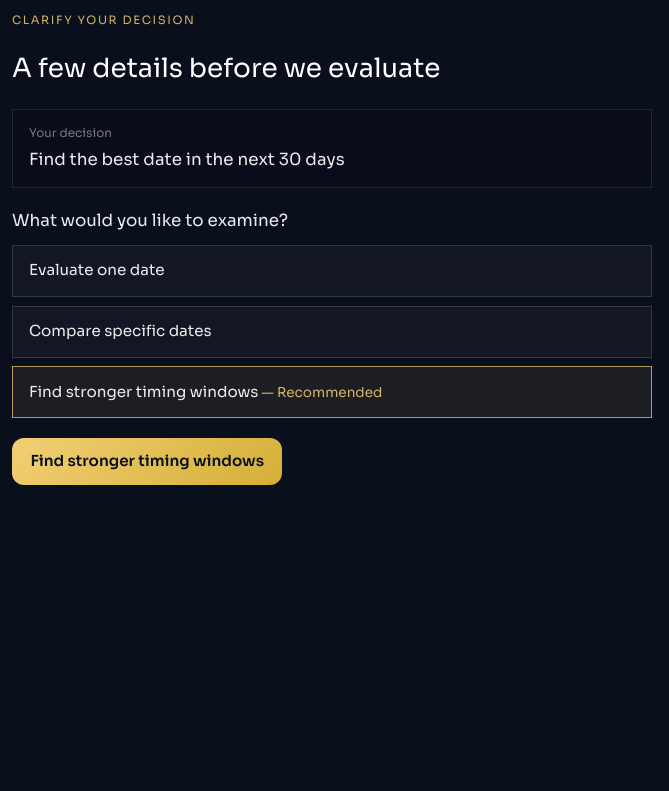
Test case: AskClarificationFlow explicit operation selector › switching operations clears incompatible fields
Expected: the element with test id "ask-ready-find" is shown, [12,438,282,485]
Click the button with test id "examine-compare" at coordinates (120, 331), box [12,306,652,358]
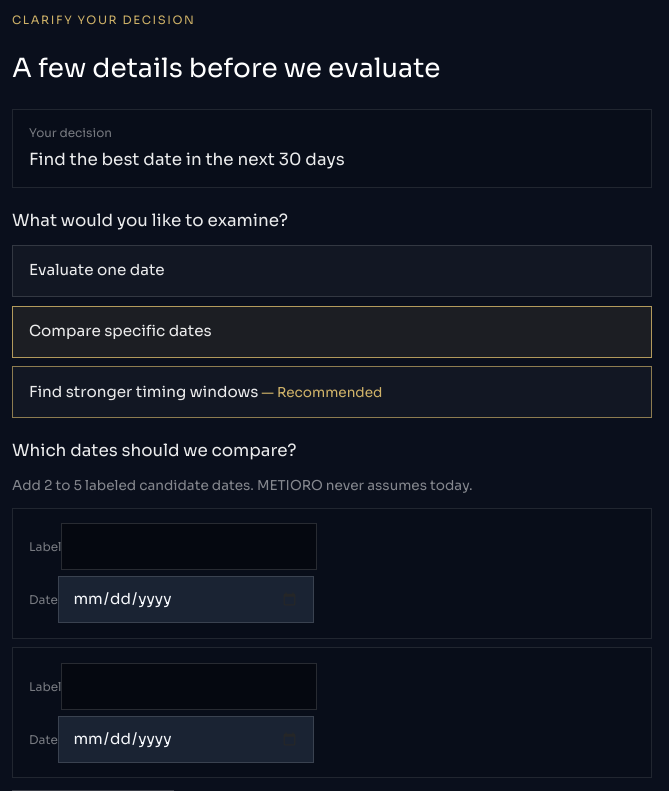
Click the button with test id "examine-evaluate" at coordinates (97, 270), box [12,245,652,297]
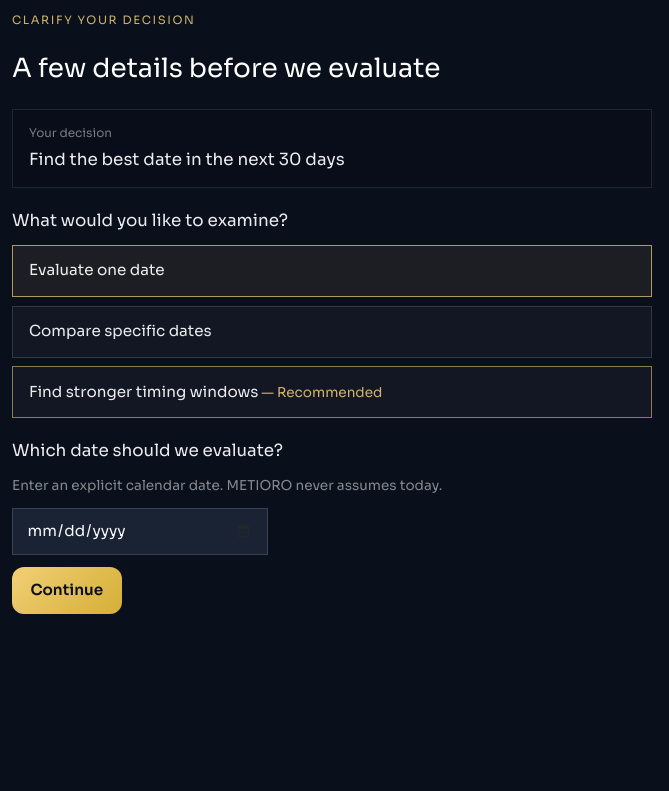
Result: the date field with test id "ask-evaluate-date" is shown at [12,508,268,555]
